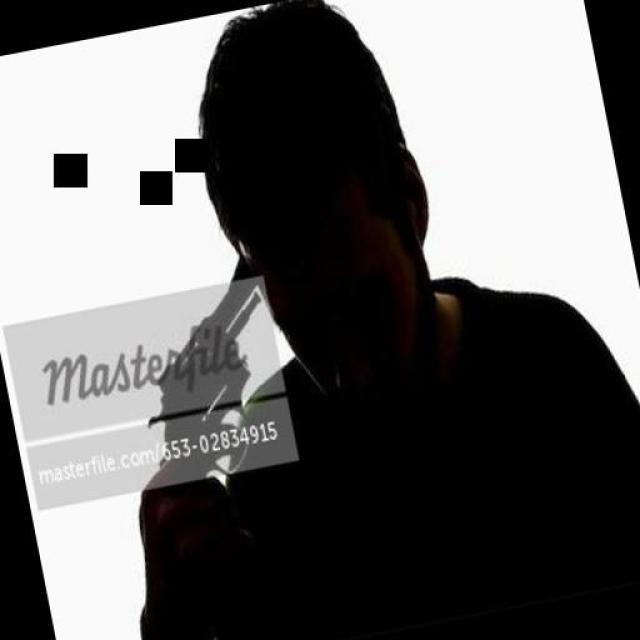gun: (109, 235, 312, 527)
